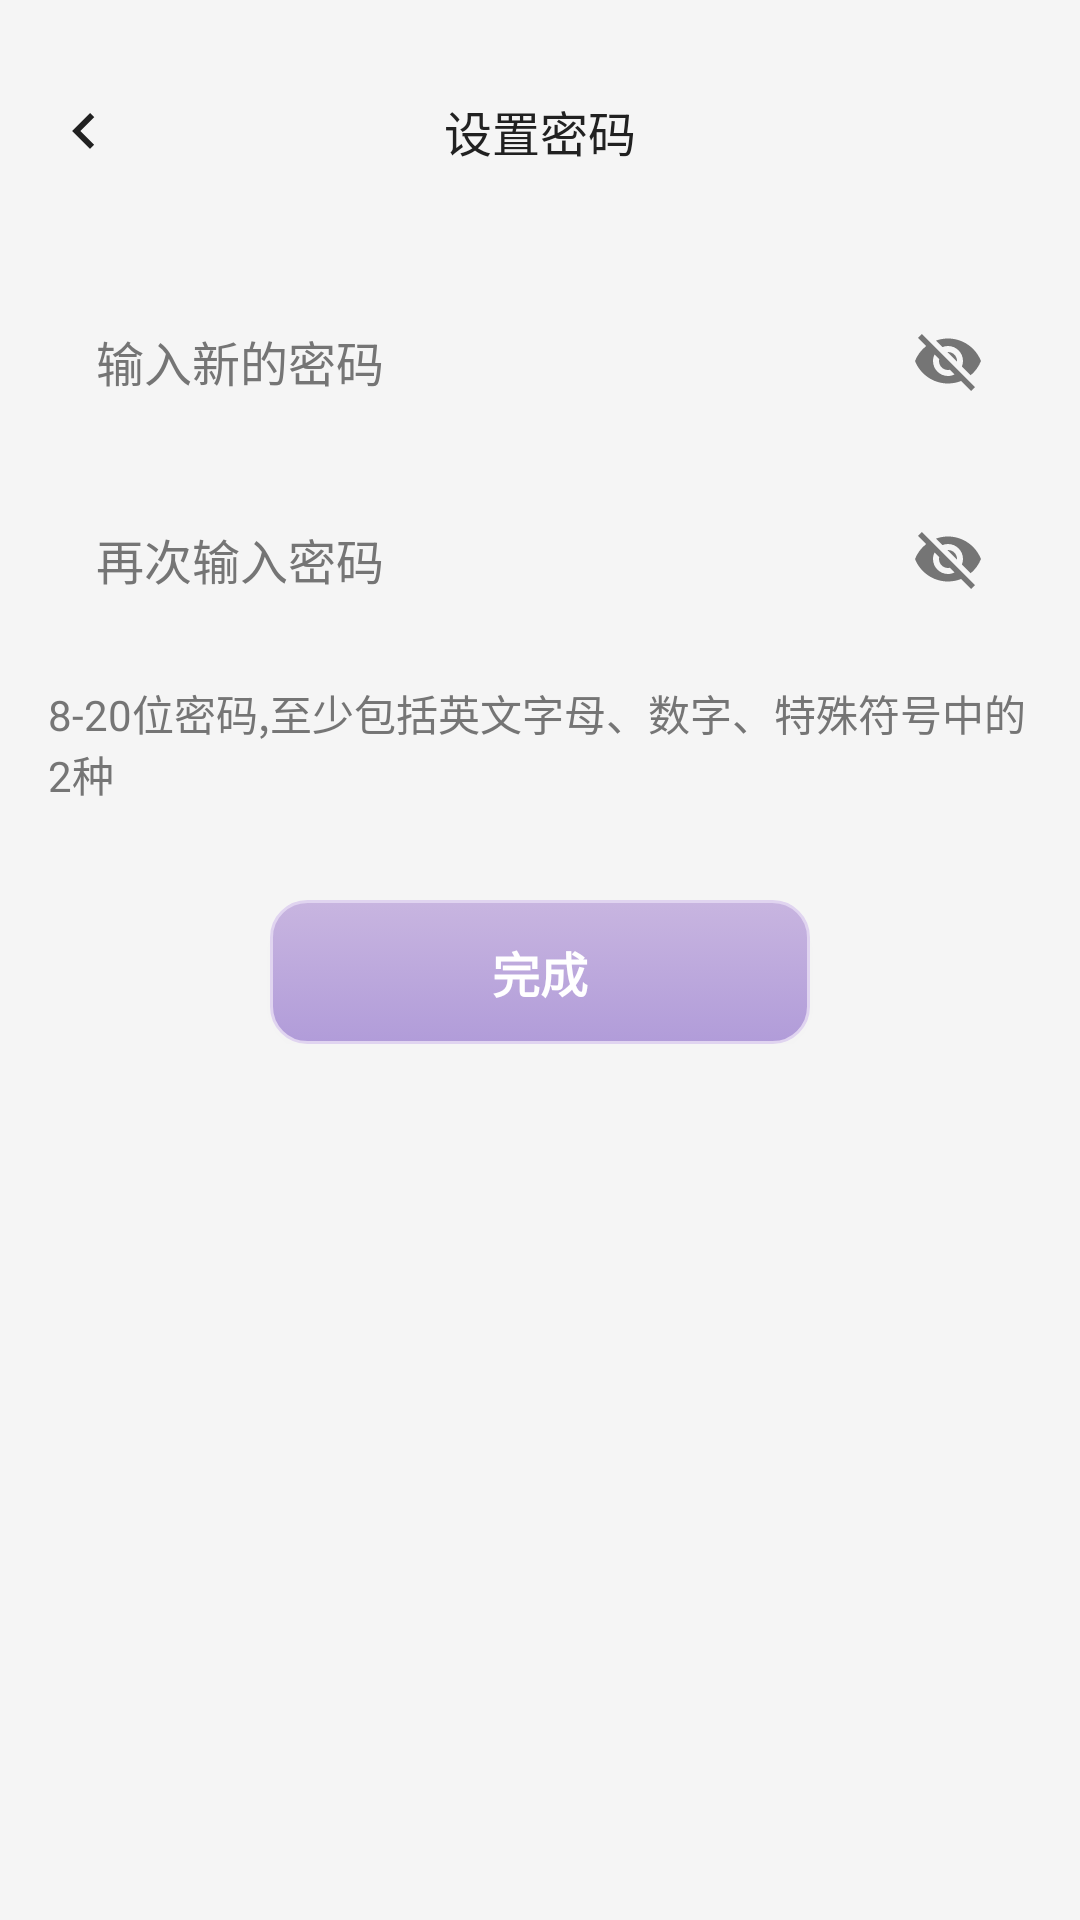

Icons on this 1080*1920 Android screen, each with its box as (x1, y1, x2, y2):
arrow left: (72, 113, 94, 149)
eye off: (915, 334, 981, 391), (915, 532, 981, 589)
